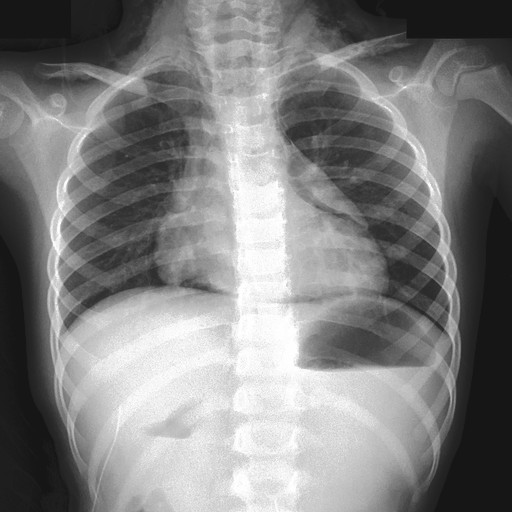Nodule/Mass: (153, 223, 389, 288)
Other lesion: (32, 0, 158, 89), (283, 293, 450, 343), (280, 147, 366, 227), (167, 274, 387, 301), (305, 0, 387, 59), (156, 211, 197, 284), (145, 277, 232, 297)
